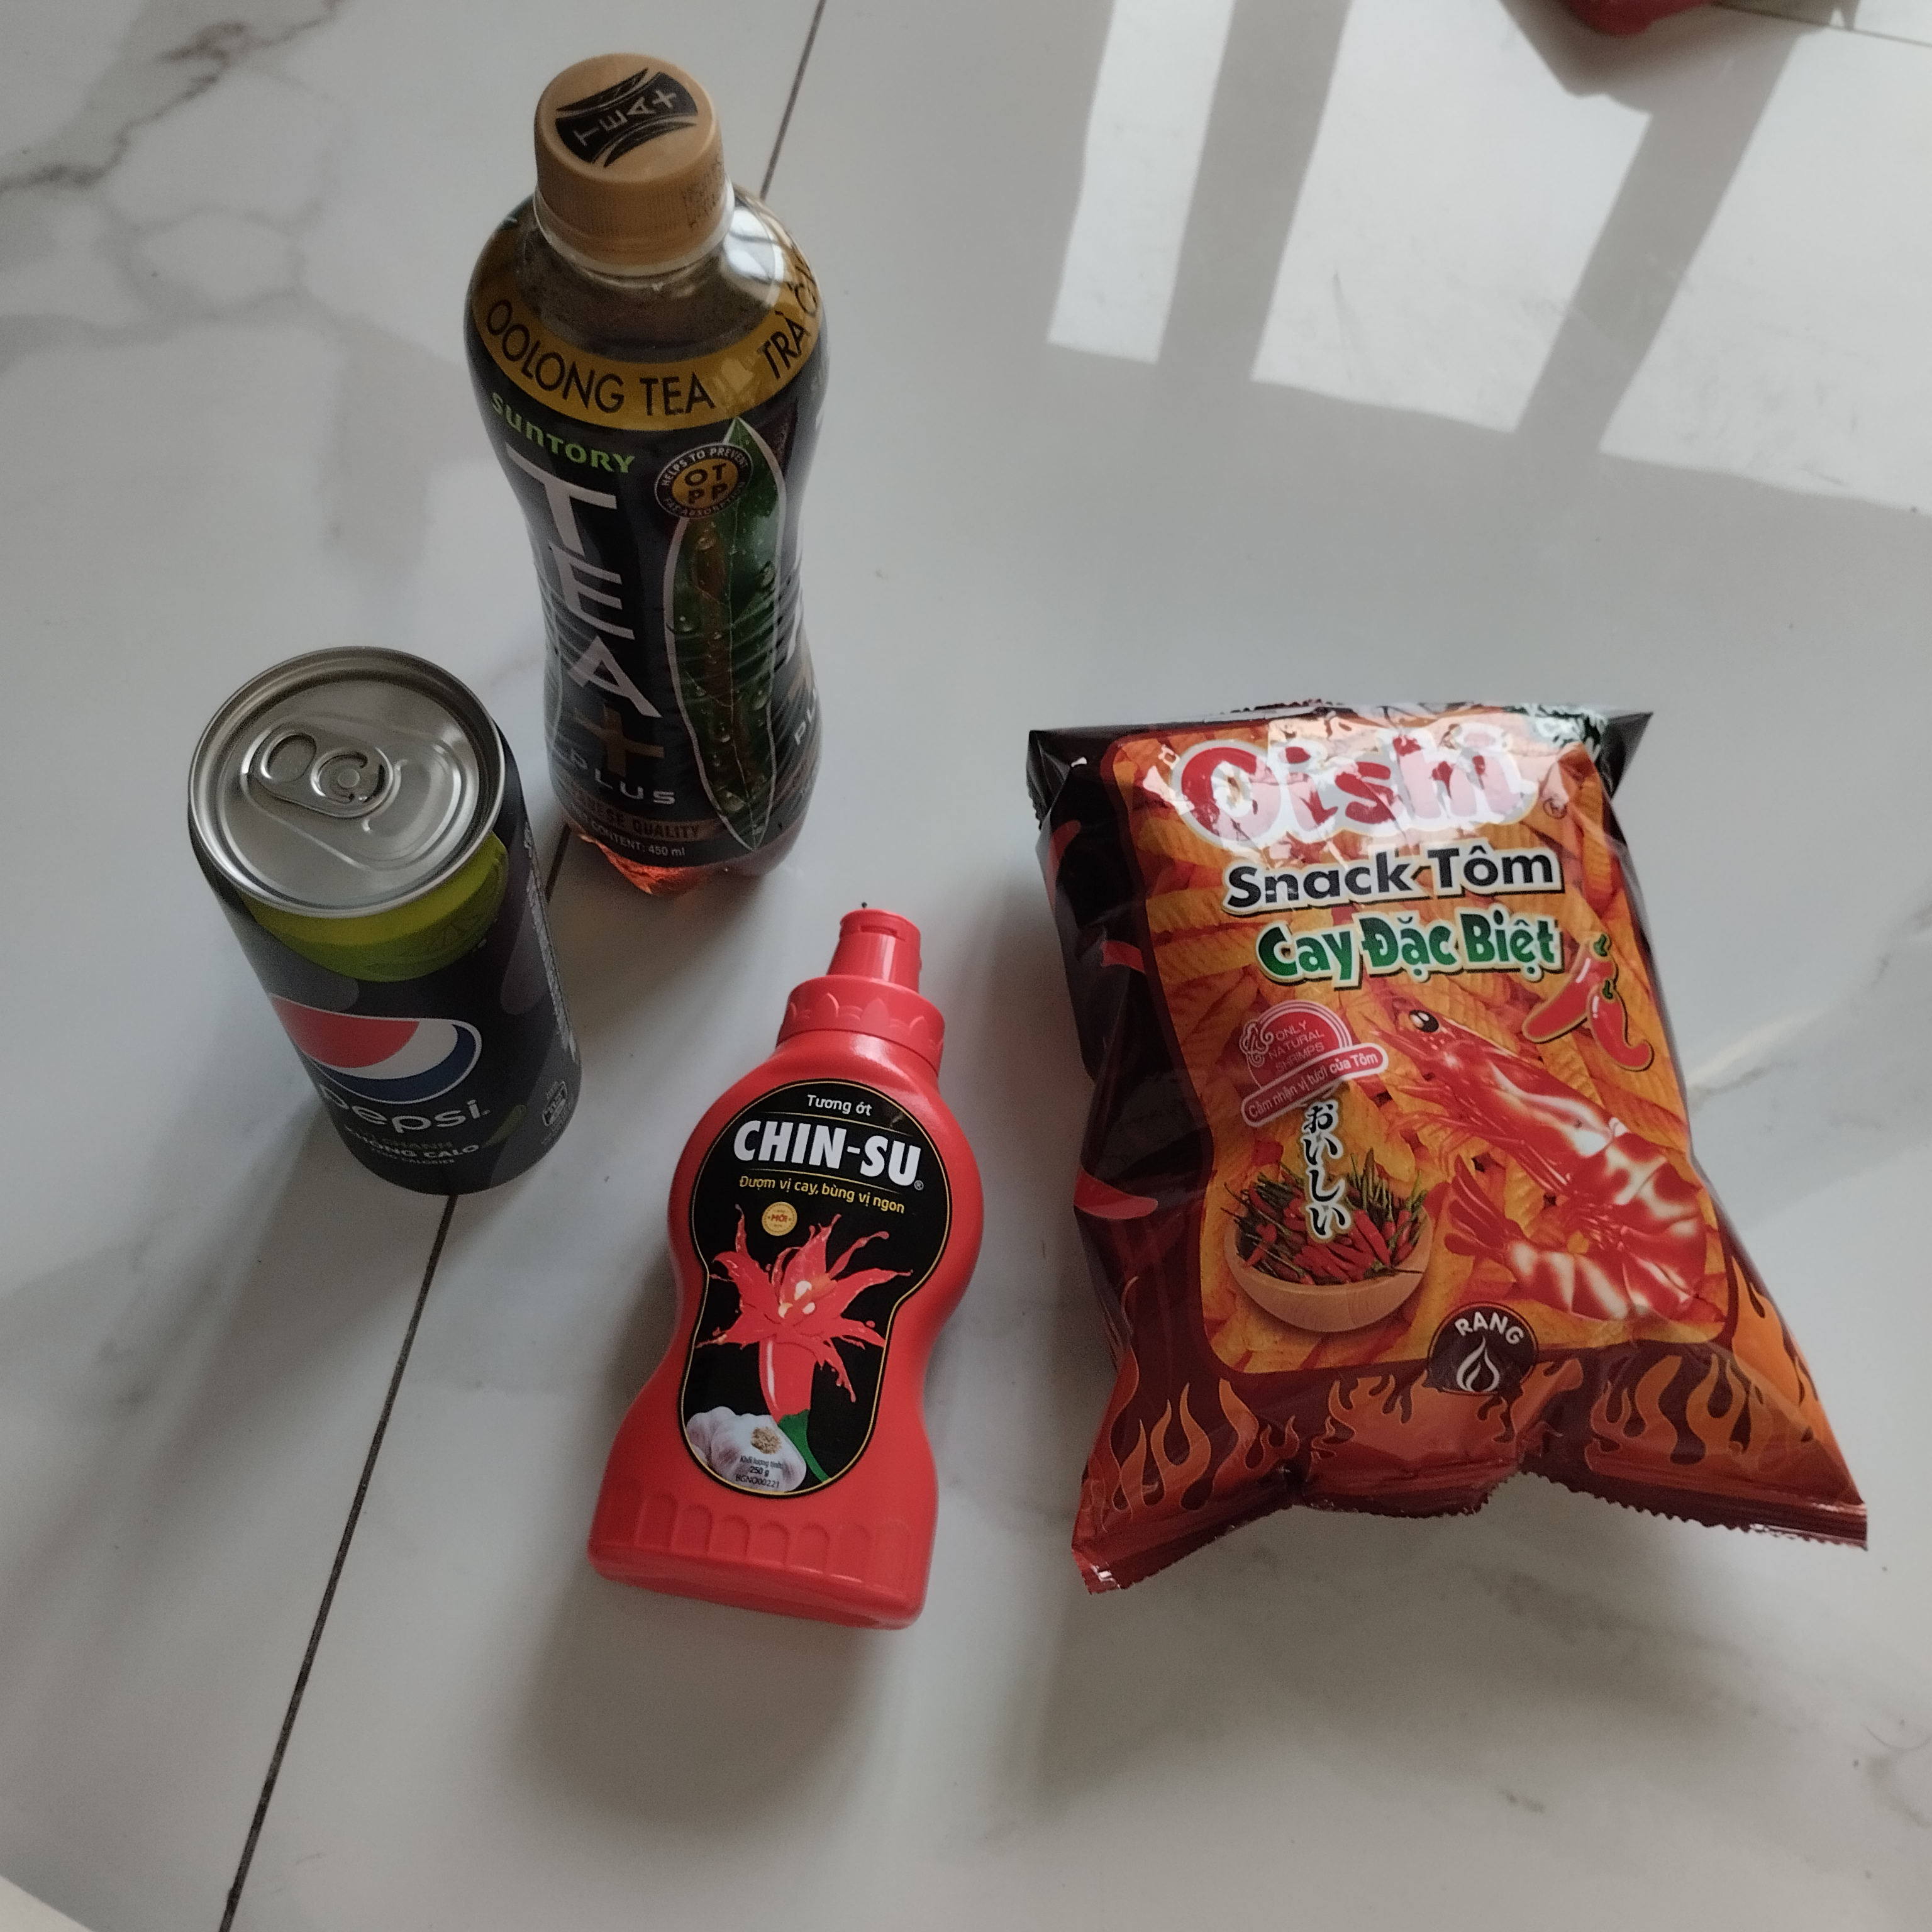Chinsu: (577, 897, 993, 1649)
Oishi_Cay: (1014, 694, 1875, 1603)
Olong: (456, 55, 828, 902)
Pepsi: (189, 648, 586, 1203)
